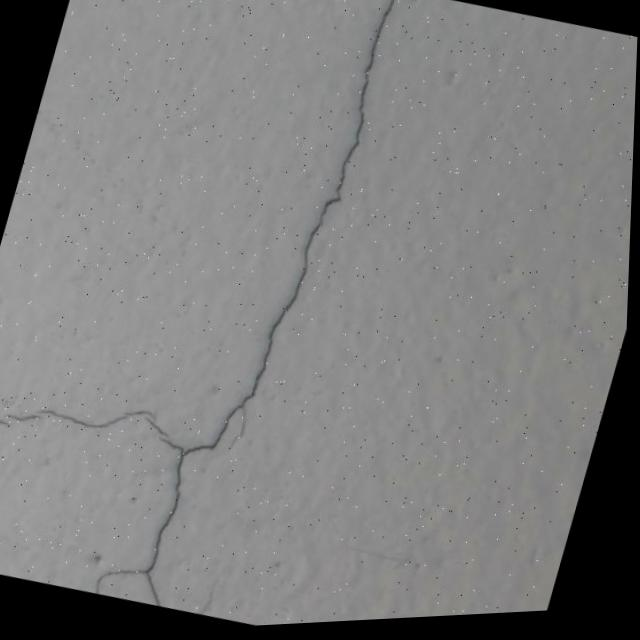Crack: (91, 0, 409, 625), (0, 358, 128, 504)
